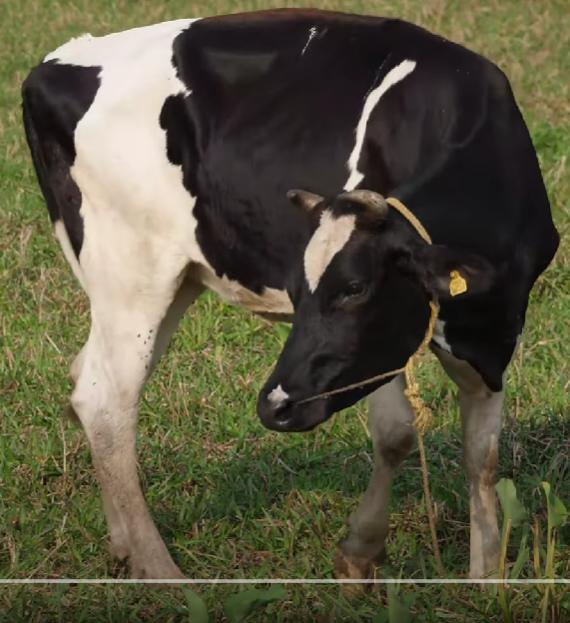cow: (23, 10, 552, 580)
